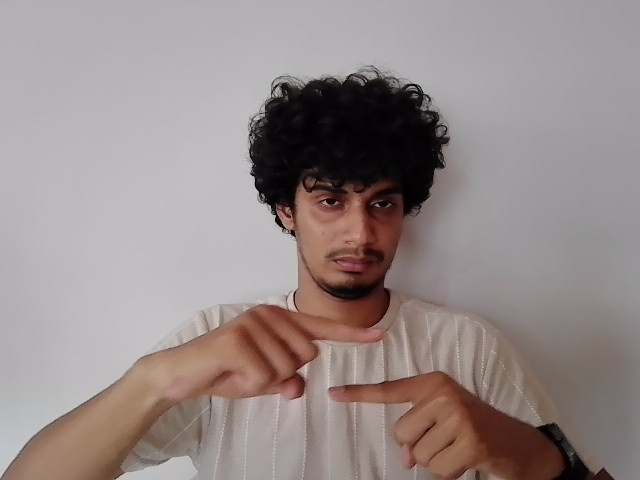about: (154, 301, 518, 480)
